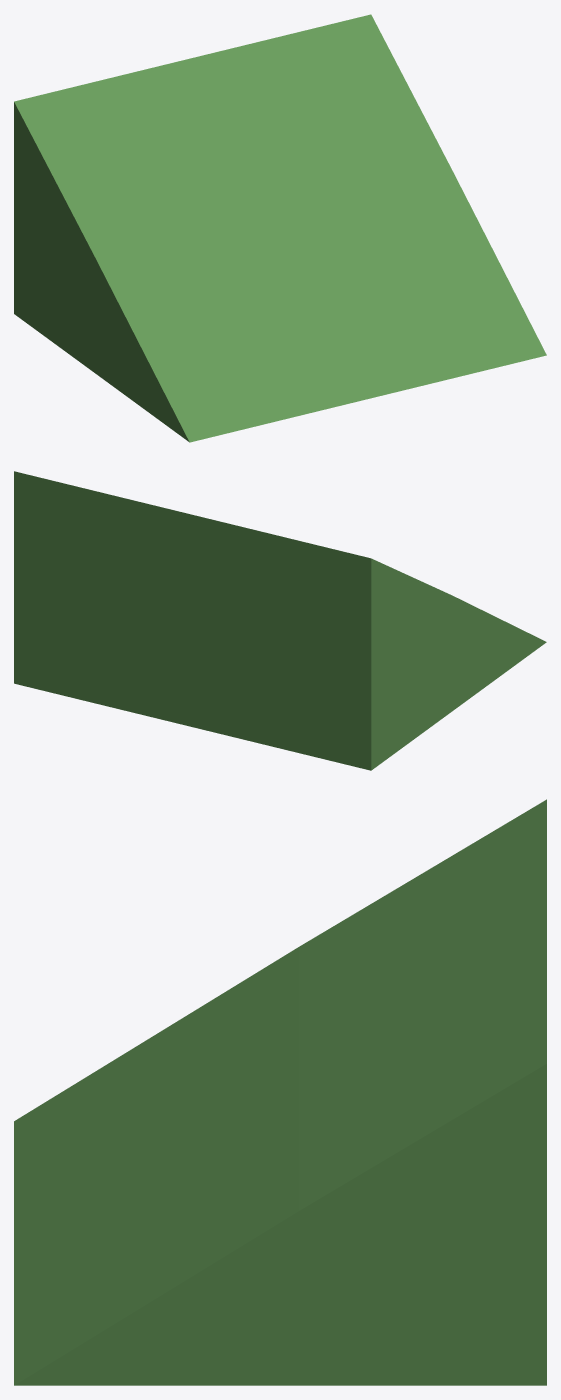
Rendered from SlantedJump.fbx.
3 renders of one model, top to bottom at view 1: azimuth 30°, elevation 25°; view 2: azimuth 150°, elevation 25°; view 3: azimuth 270°, elevation 25°, orthographic. The views are drawn at different scales.
Parts seen in each view (by area): view 1: SlantedPiece2; view 2: SlantedPiece2; view 3: SlantedPiece2.
Part boxes in pixels (x1,y1,x2,y2): SlantedPiece2: [14, 14, 546, 442]; SlantedPiece2: [14, 471, 546, 770]; SlantedPiece2: [14, 799, 546, 1385].
Size of the model in its own units: 1.76 by 1 by 1.5.
